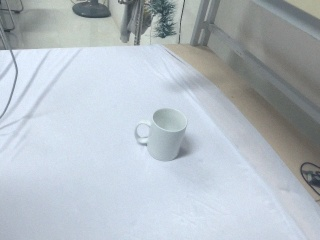cup: (134, 106, 189, 161)
